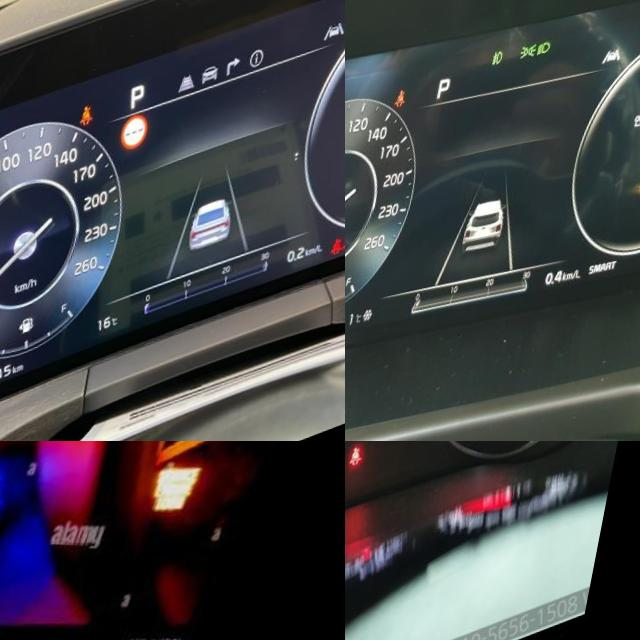Engine cooling system: (0, 460, 33, 523)
FrontFogLight: (498, 63, 512, 81)
LaneCenteringOff: (327, 39, 345, 63)
Low beam: (544, 57, 559, 73)
SideLamp: (526, 59, 545, 76)
